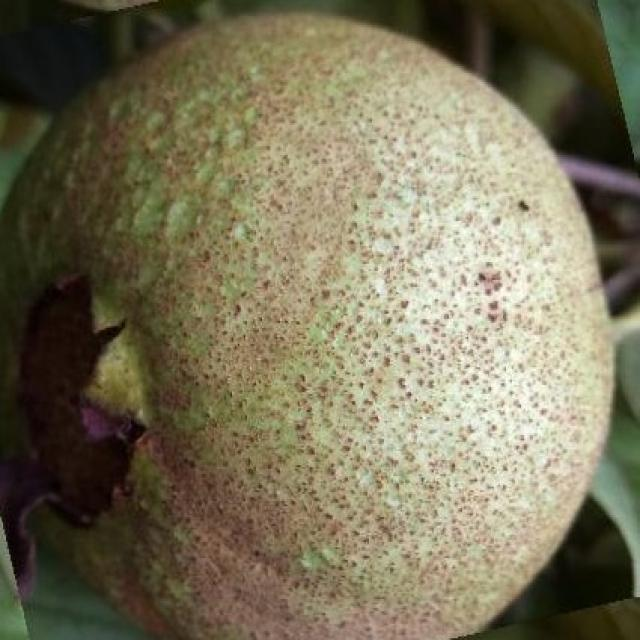Scab: (0, 15, 612, 637)
